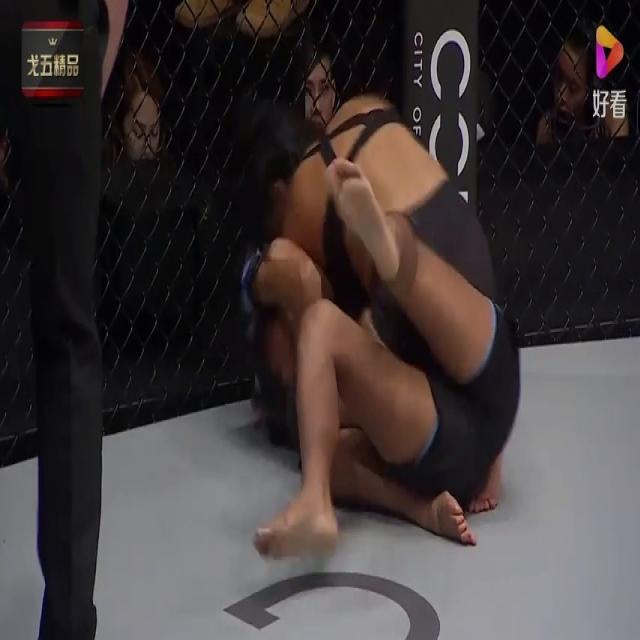fight: (237, 89, 522, 569)
